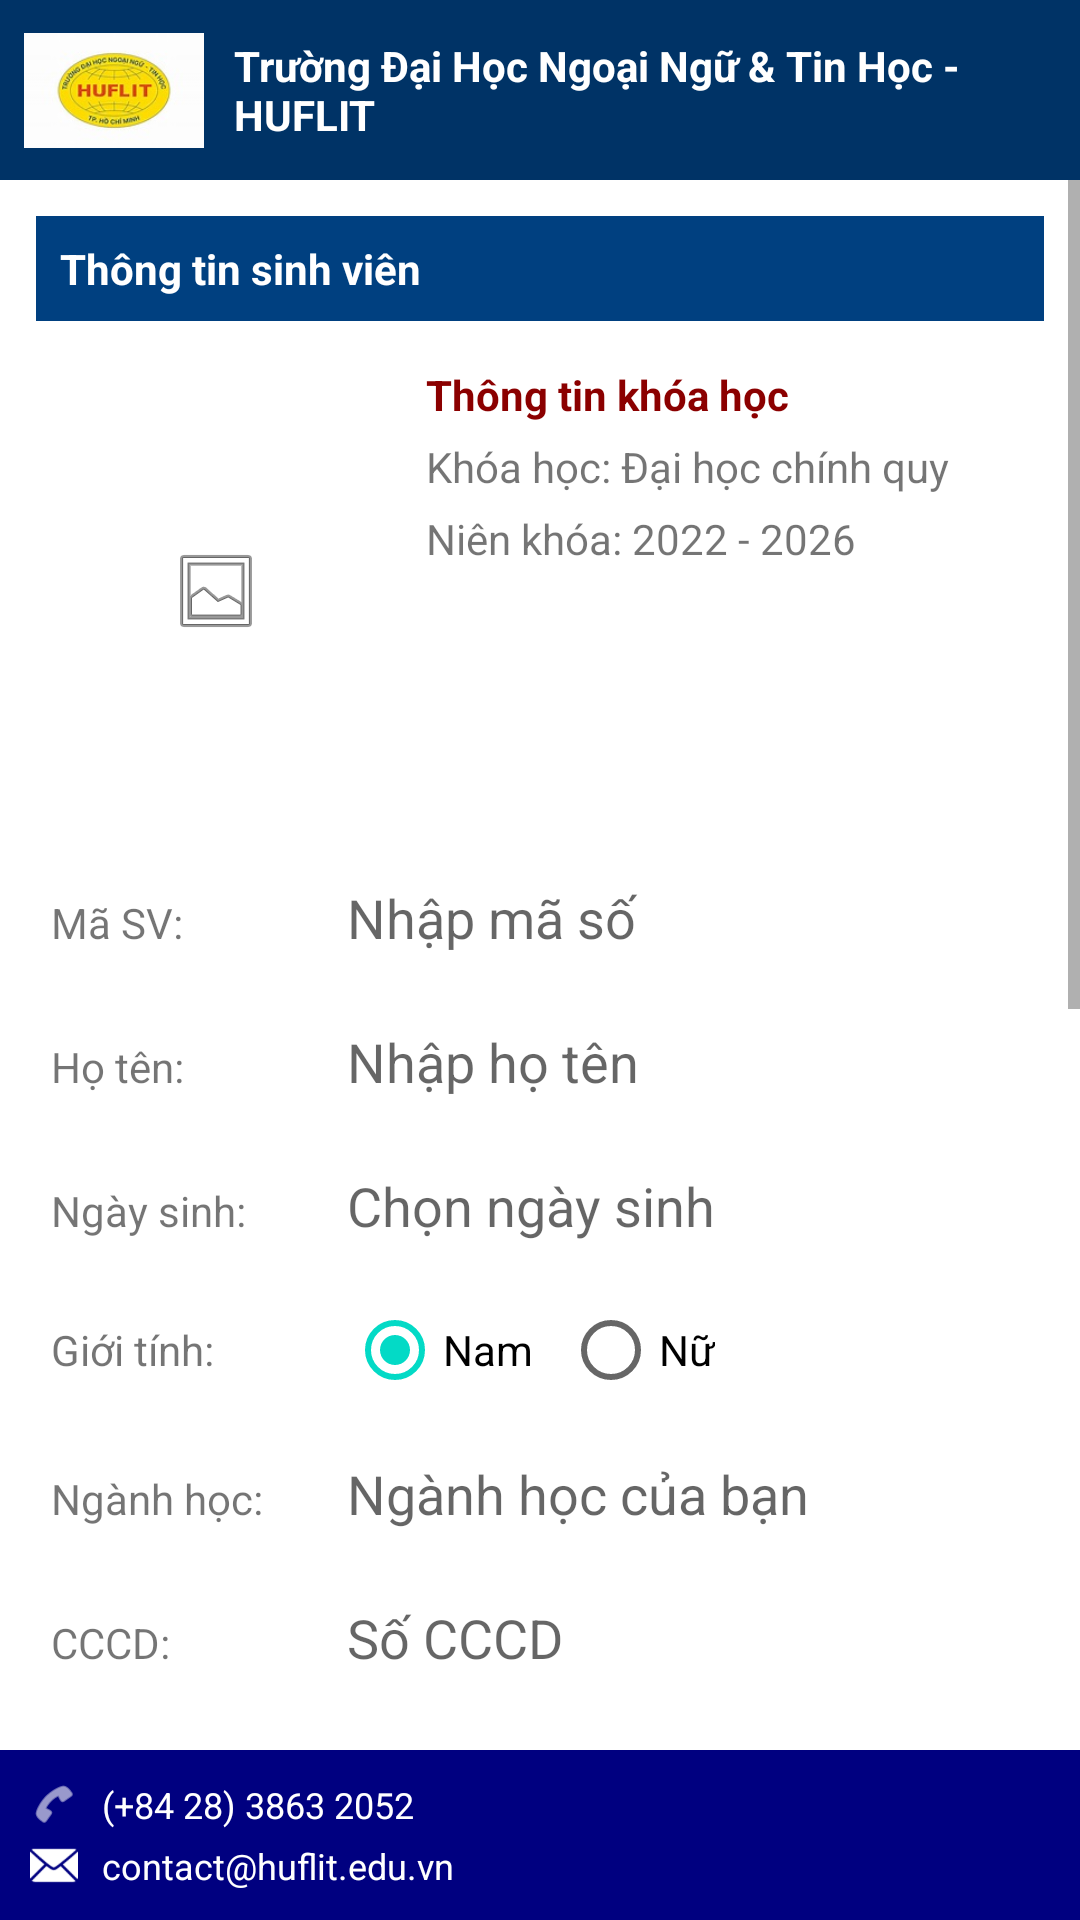

Icon click points for this 1080w x 1920h phone screenshot, format (x=x, y=y):
call: (x=54, y=1804)
email: (x=54, y=1865)
gallery: (x=216, y=591)
